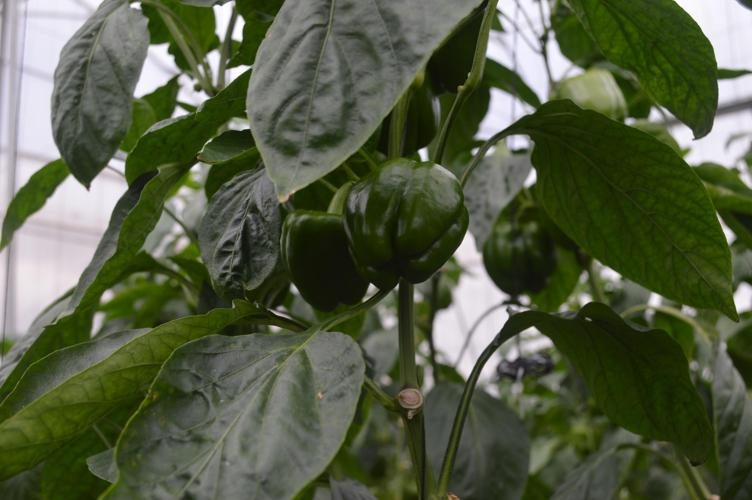BellPepper: (335, 152, 479, 292), (278, 205, 375, 320), (477, 207, 559, 298)
